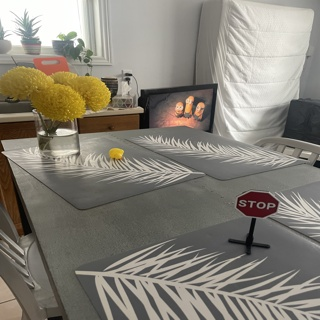sign_stop: (238, 189, 280, 219)
